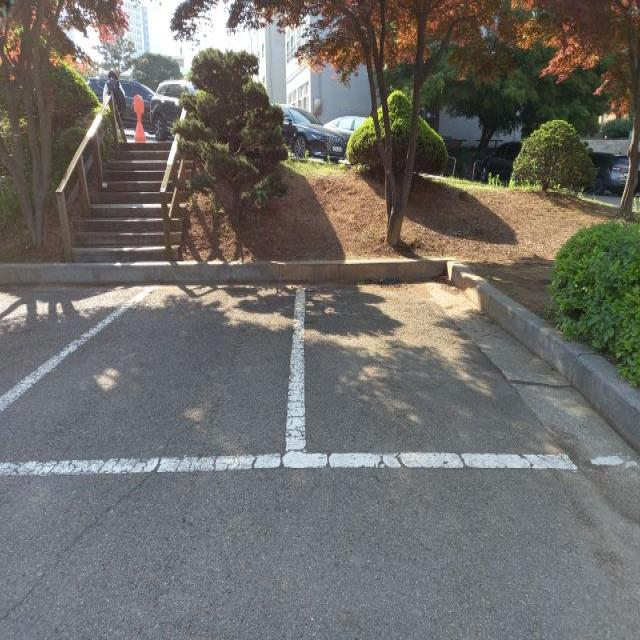empty: (290, 273, 623, 462), (0, 276, 304, 471)
